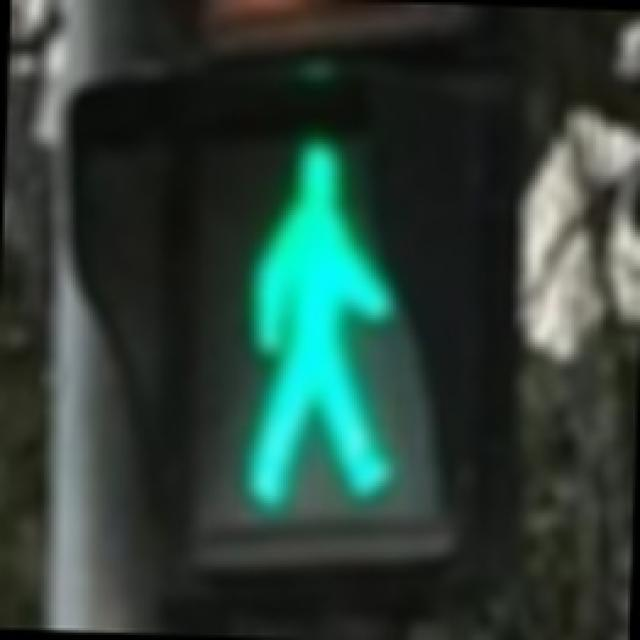green_light: (191, 100, 437, 533)
